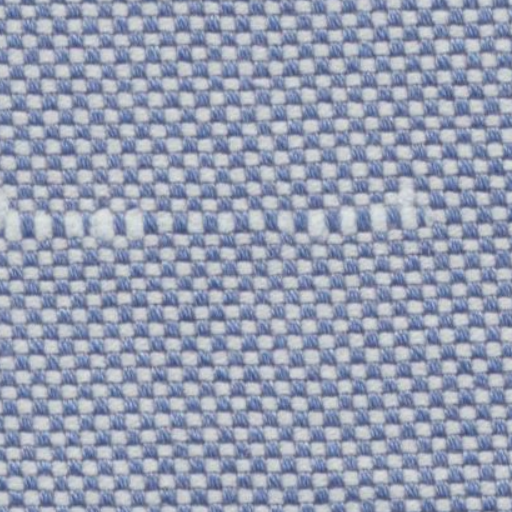DaiSha: (5, 179, 446, 250)
